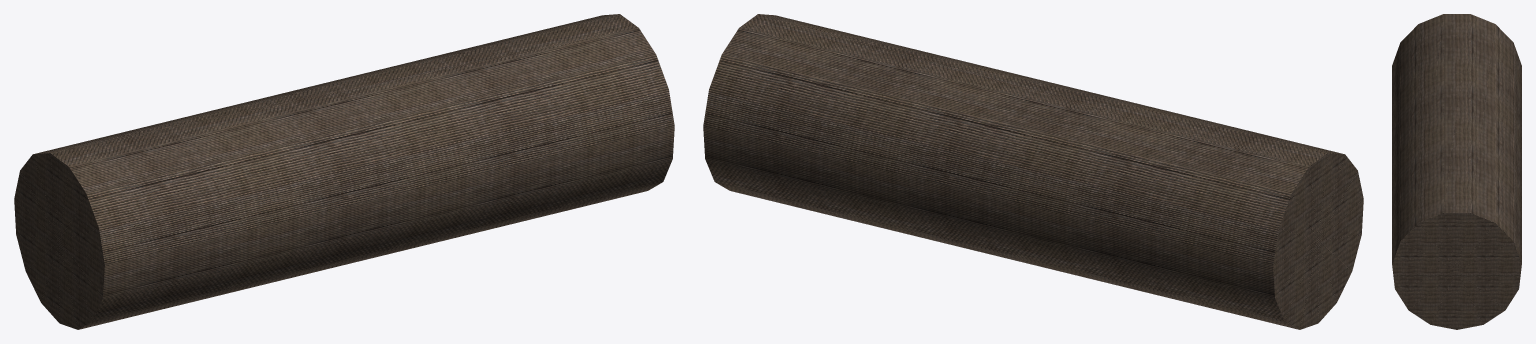
File: Log.FBX
3 views of the same model, side by side, from view 1: azimuth 30°, elevation 25°; view 2: azimuth 150°, elevation 25°; view 3: azimuth 270°, elevation 25° (orthographic). The views are drawn at different scales.
Parts seen in each view (by area): view 1: Cylinder001; view 2: Cylinder001; view 3: Cylinder001.
Boxes of the visible parts, x1,y1,x2,y2 form: Cylinder001: (14, 14, 674, 329); Cylinder001: (703, 14, 1363, 329); Cylinder001: (1392, 14, 1521, 329).
Size of the model in its own units: 55.03 by 15.09 by 15.18.
Materials: 1 (1 with a texture image).
